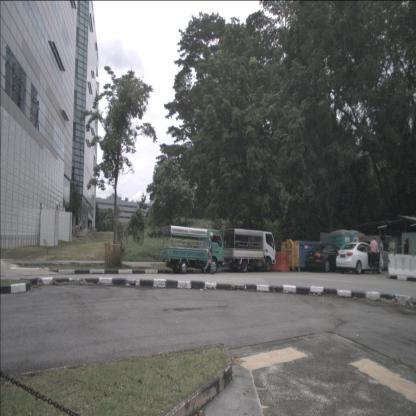human-pedestrian-adult: (369, 236, 379, 276), (399, 238, 410, 273), (376, 235, 384, 274), (388, 236, 396, 271)
movable_object-barrier: (387, 254, 415, 282), (269, 252, 290, 272)
vehicle-car: (335, 242, 384, 274), (305, 244, 351, 272)
vehicle-truck: (160, 225, 224, 274), (222, 228, 276, 273)
